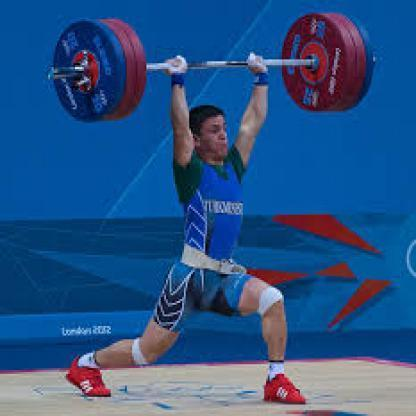barbell: (48, 13, 377, 122)
